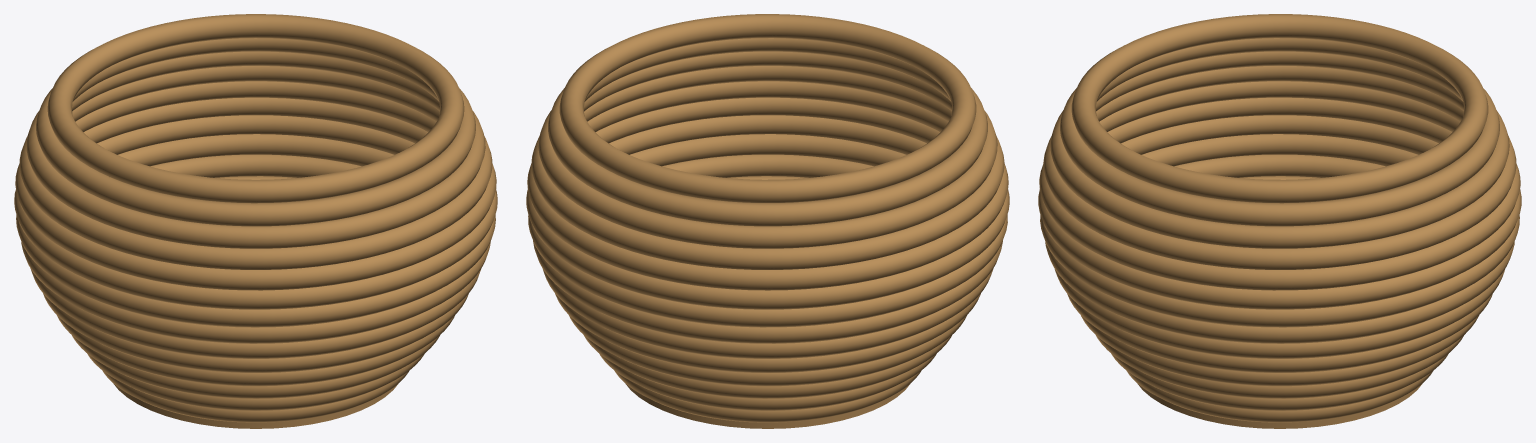
Rendered from cr-basket.glb.
The picture shows the model from 3 angles, left to right: view 1: azimuth 30°, elevation 25°; view 2: azimuth 150°, elevation 25°; view 3: azimuth 270°, elevation 25°; orthographic projection.
Parts seen in each view (by area): view 1: cr_basket; view 2: cr_basket; view 3: cr_basket.
Boxes of the visible parts, x1,y1,x2,y2 form: cr_basket: [14, 14, 497, 428]; cr_basket: [526, 14, 1009, 428]; cr_basket: [1038, 14, 1521, 428].
Size of the model in its own units: 0.3601 by 0.22 by 0.3601.
